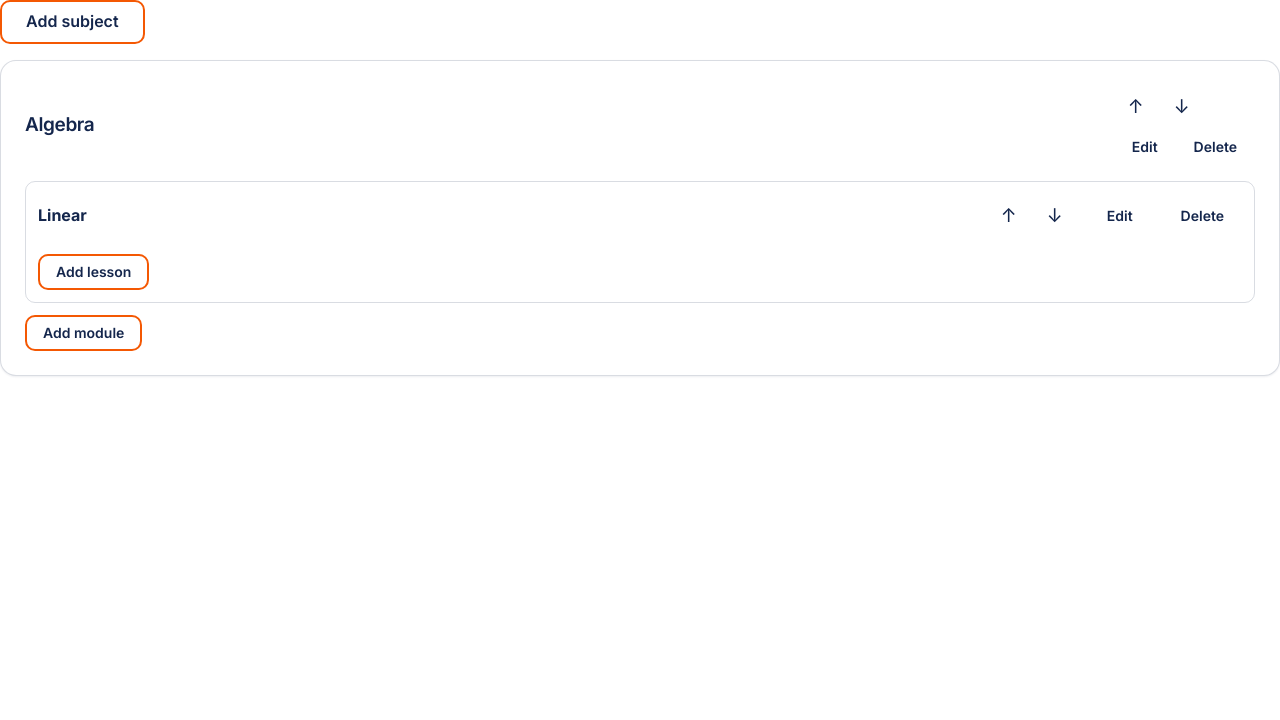
Scenario: a batch without a date asks for the date
The width and height of the screenshot is (1280, 720).
Click the button "Add lesson" at (94, 272), box x1=38 y1=254 x2=149 y2=290
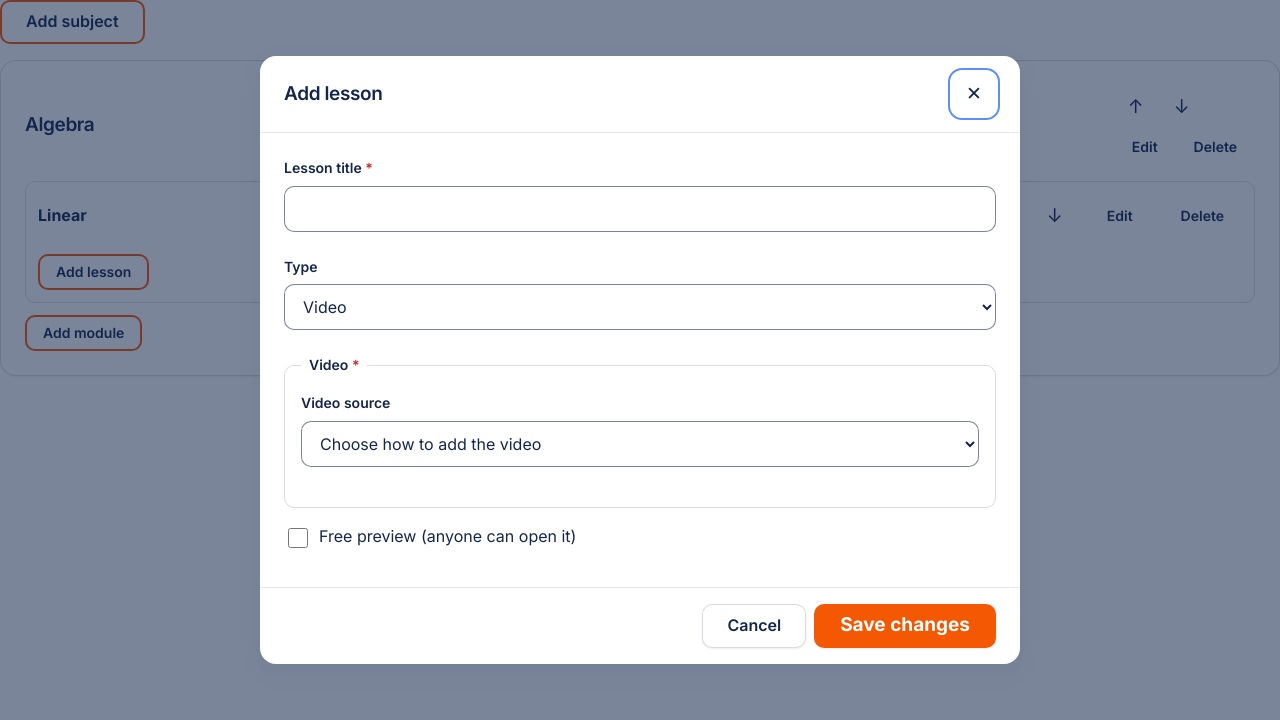
Type "Algebra" into the field labelled "Lesson title *" at (640, 209), box x1=284 y1=186 x2=996 y2=232
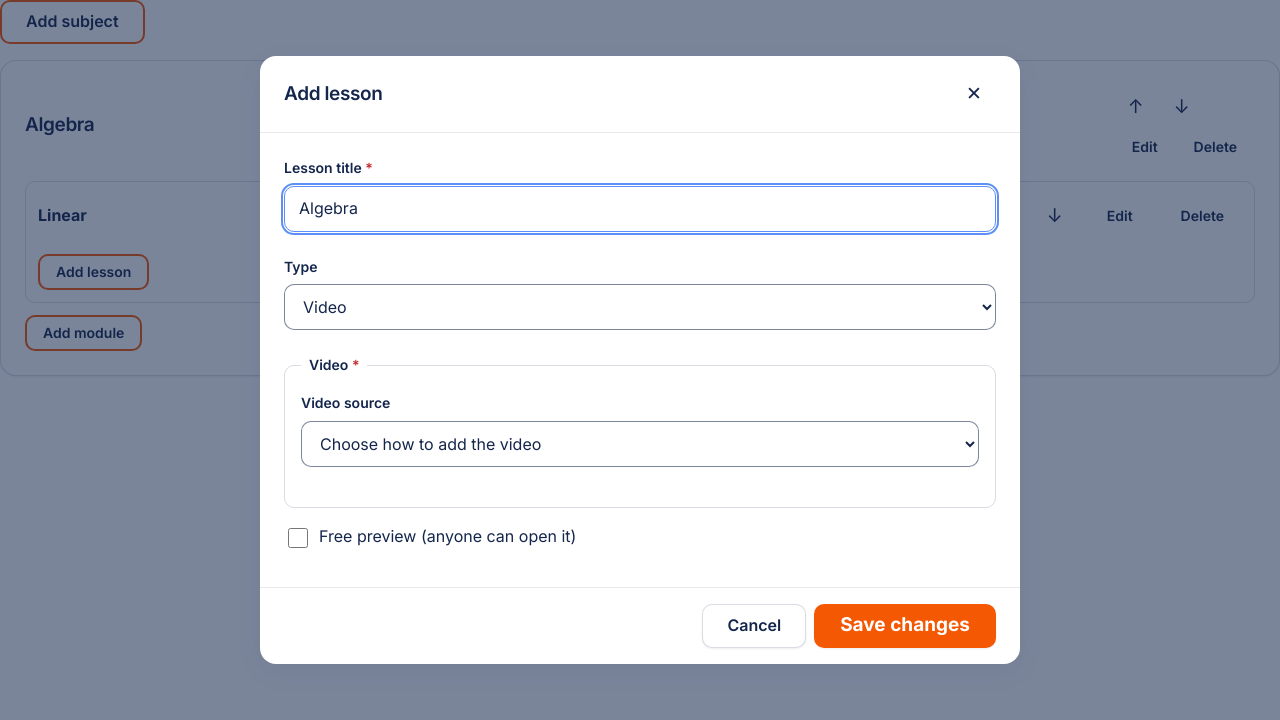
Select "Live class" in the dropdown labelled "Type" at (640, 307), box x1=284 y1=284 x2=996 y2=330
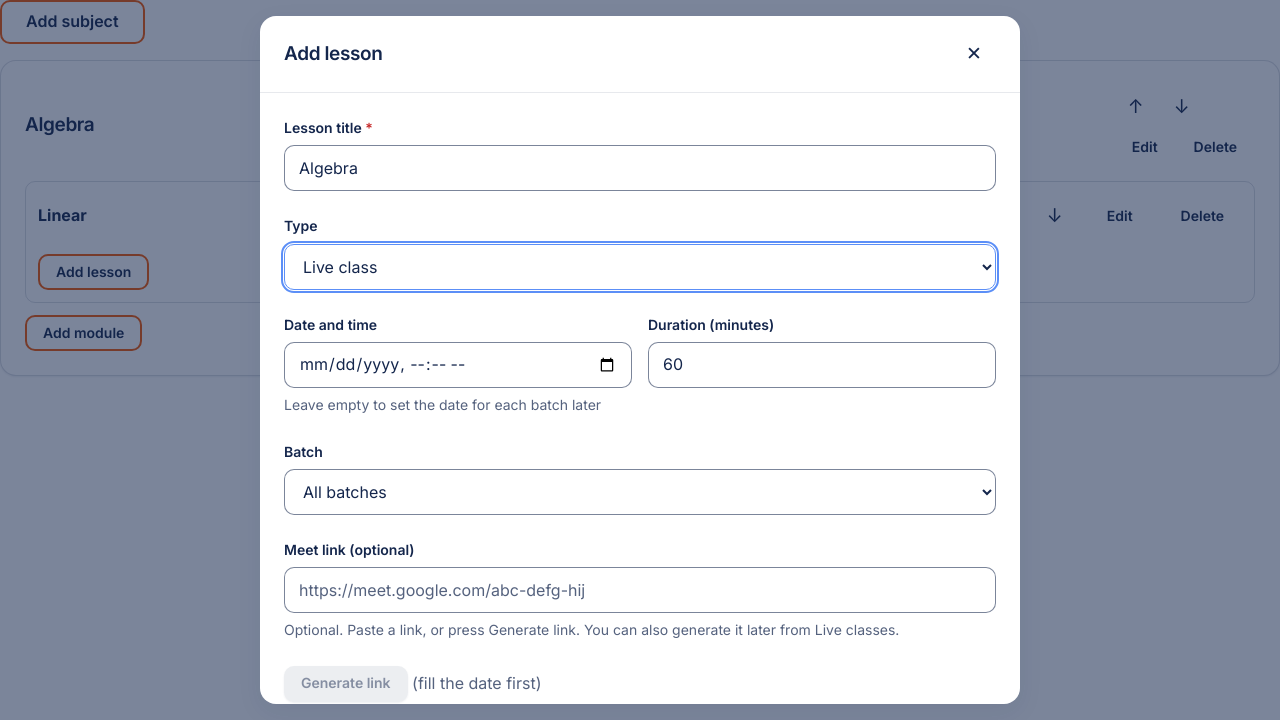
Select "Morning" in the dropdown labelled "Batch" at (640, 492), box x1=284 y1=469 x2=996 y2=515
(page scrolled)
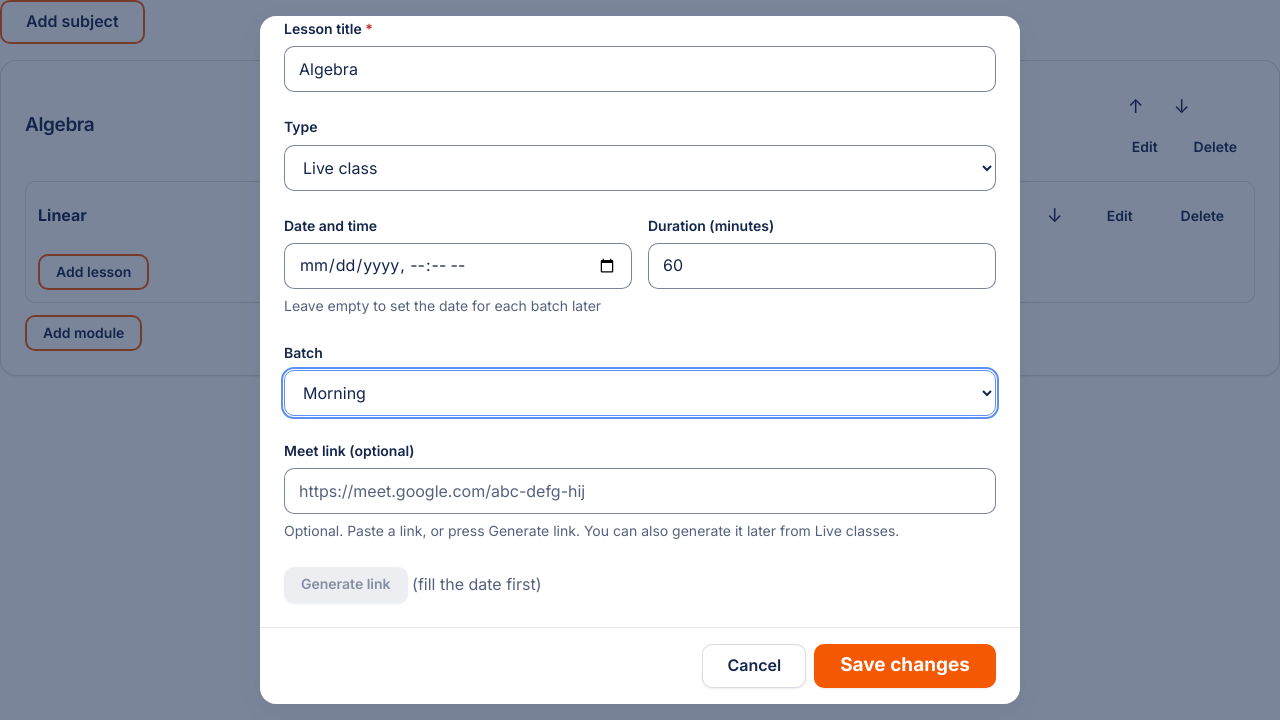
Click the button "Save changes" at (905, 666), box x1=814 y1=644 x2=996 y2=688
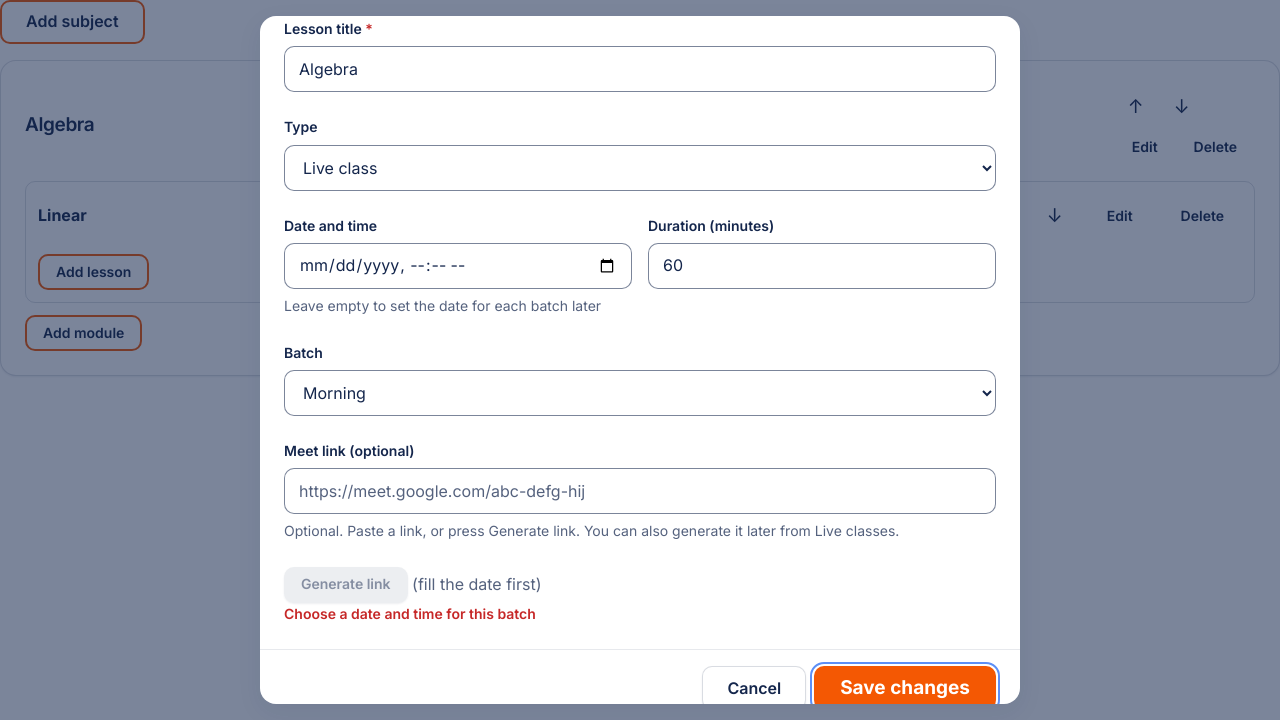
Now the message reads "Choose a date and time for this batch", box x1=284 y1=605 x2=536 y2=622
